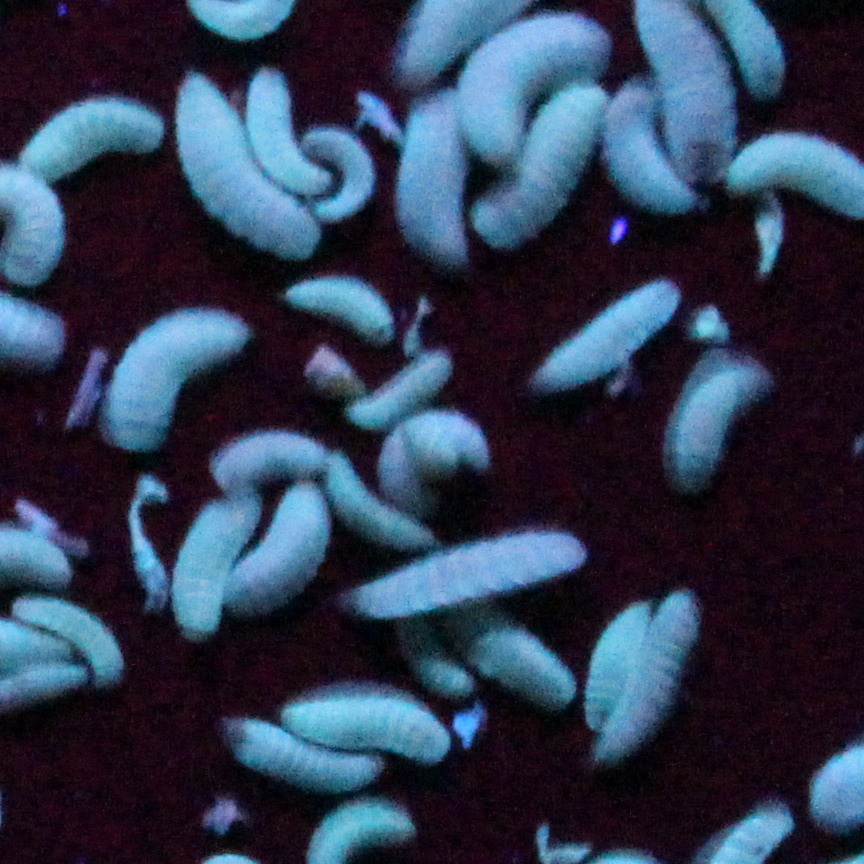larve: (181, 72, 322, 261), (471, 78, 603, 253), (346, 531, 587, 625), (456, 19, 611, 163), (103, 312, 250, 447), (599, 592, 699, 763), (534, 284, 679, 392), (169, 492, 264, 639), (224, 486, 330, 610), (450, 614, 577, 717), (668, 353, 764, 488), (401, 88, 473, 266), (24, 102, 166, 190), (281, 692, 456, 763), (222, 715, 379, 794), (603, 86, 699, 214), (242, 64, 332, 200), (320, 449, 436, 547), (381, 414, 489, 517), (579, 600, 654, 729), (346, 357, 450, 441), (285, 268, 393, 343), (211, 431, 336, 486), (305, 125, 381, 215)
